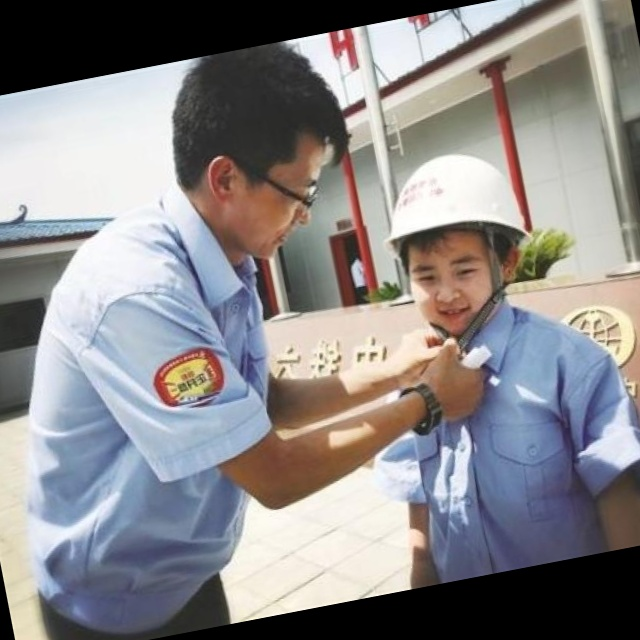Con_Casco: (373, 143, 537, 338)
Sin_Casco_Mascarrilla: (155, 32, 366, 255)
